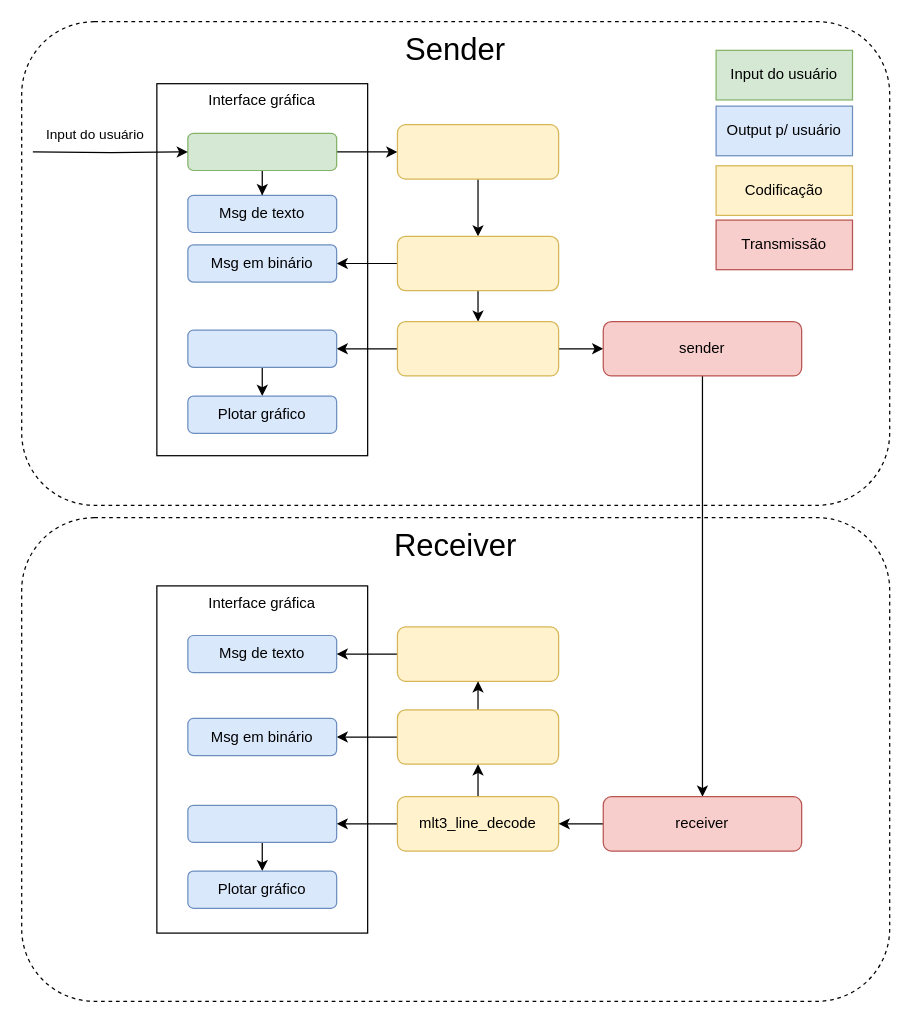
This 911x1023 diagram has some shape labels left out. Here are the shapes that lost their labels. From the top down, the centre of each, then its label:
pixel 262 151: Input de texto
pixel 477 151: encrypt
pixel 477 263: binary_encode
pixel 262 348: sinal após algoritmo
pixel 477 348: mlt3_line_encode
pixel 477 653: decrypt
pixel 477 736: binary_decode
pixel 262 823: sinal
